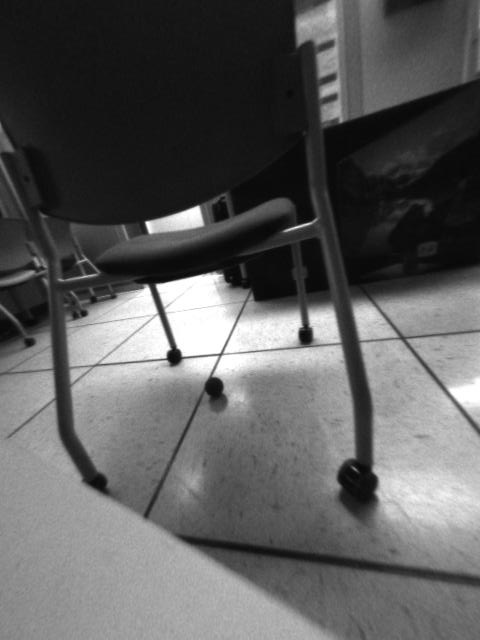dogtoy: (193, 369, 235, 404)
